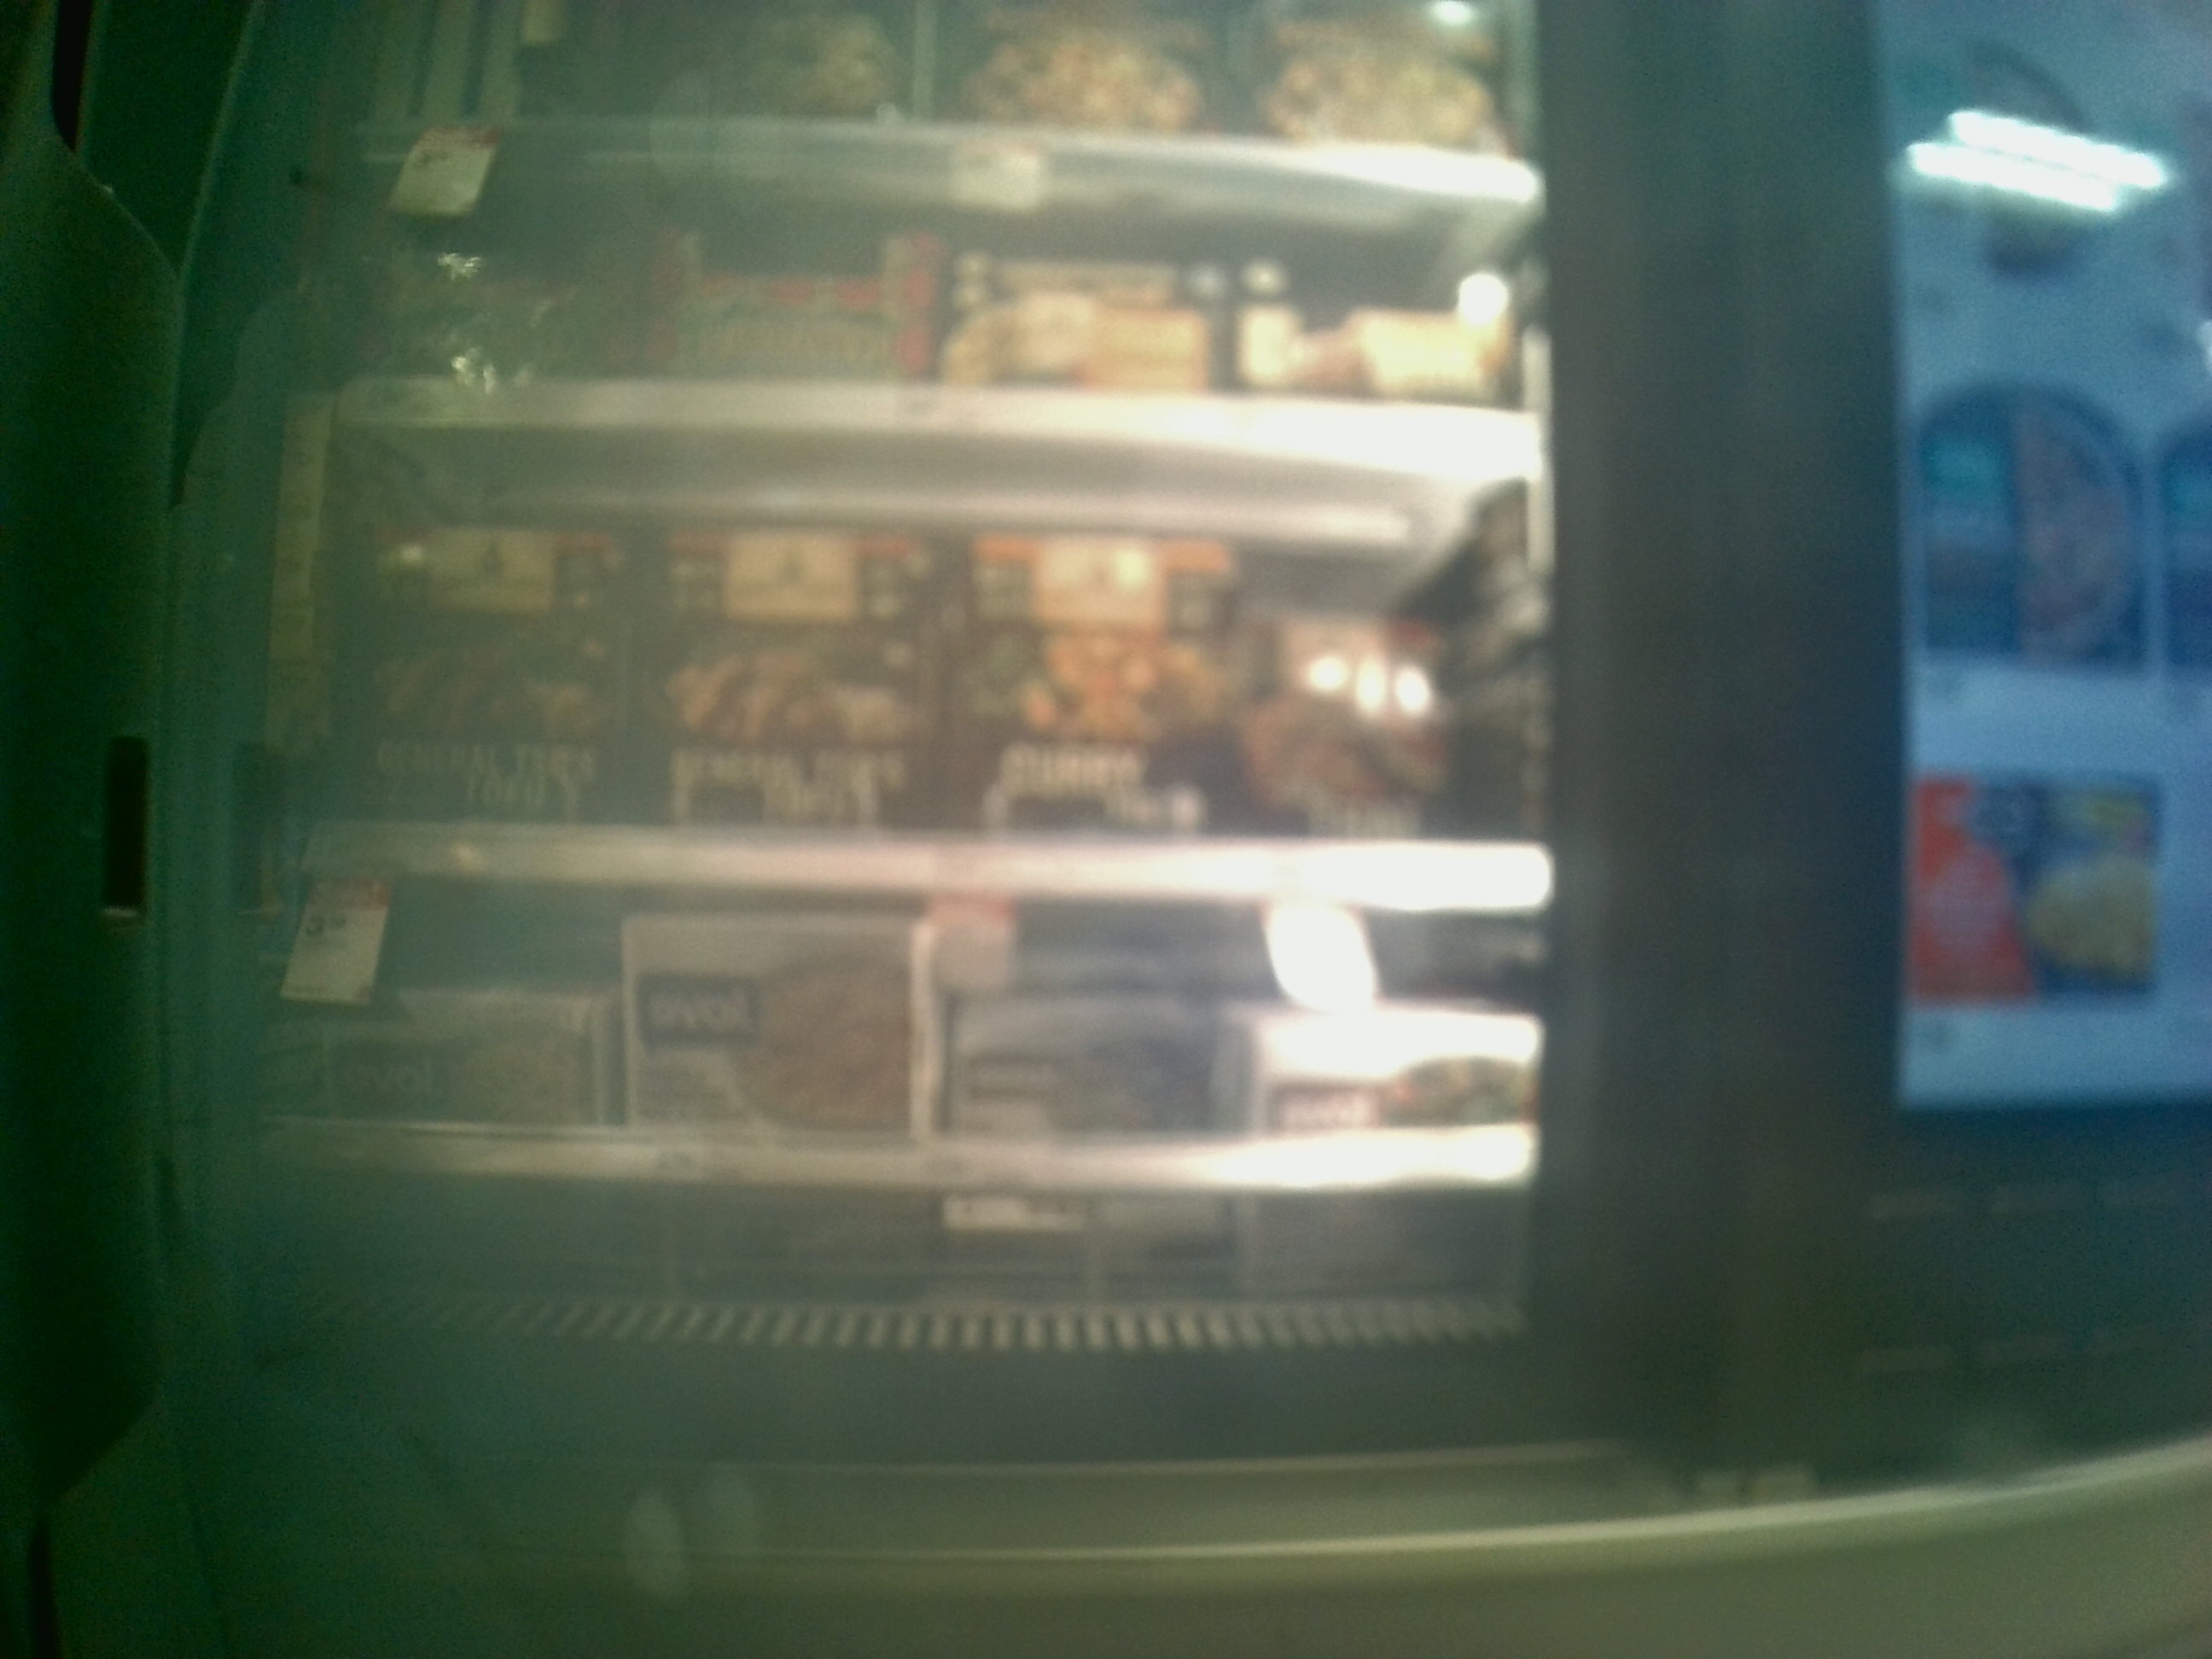frozen-food-shelf: (286, 477, 1576, 915), (329, 171, 1564, 477), (235, 918, 1590, 1195)
